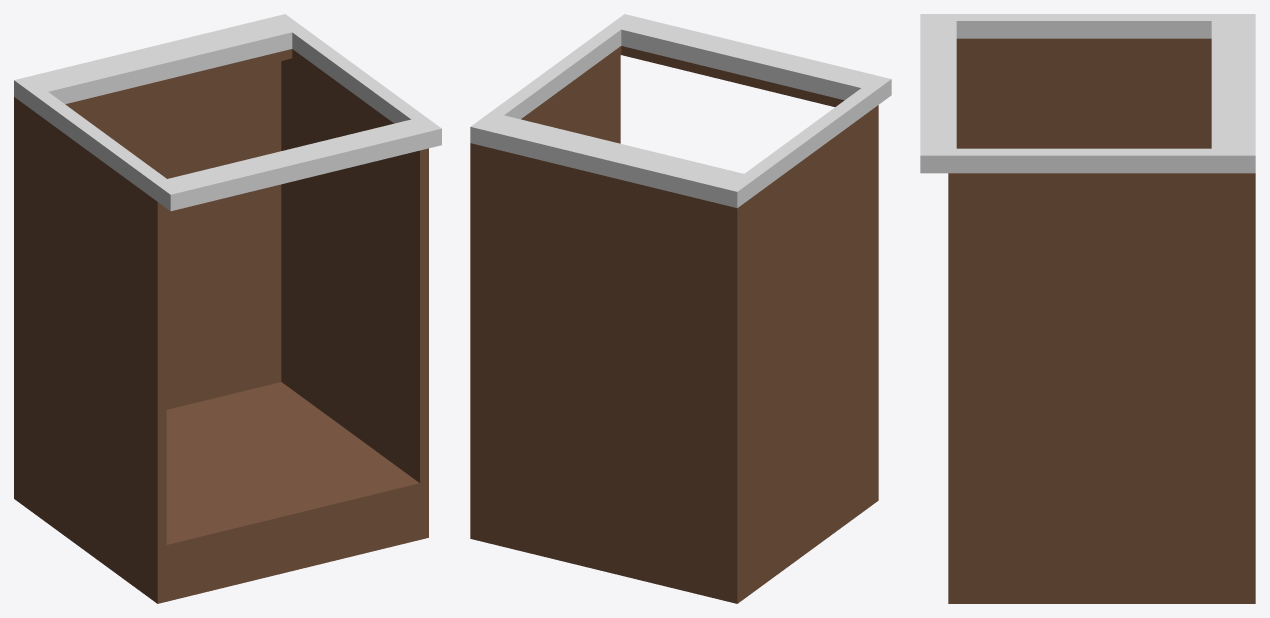
File: Kitchen1_C2_05.fbx
The picture shows the model from 3 angles, left to right: view 1: azimuth 30°, elevation 25°; view 2: azimuth 150°, elevation 25°; view 3: azimuth 270°, elevation 25°; orthographic projection. The views are drawn at different scales.
Parts seen in each view (by area): view 1: Kitchen1_C2_05; view 2: Kitchen1_C2_05; view 3: Kitchen1_C2_05.
Boxes of the visible parts, x1,y1,x2,y2 form: Kitchen1_C2_05: [14, 14, 441, 603]; Kitchen1_C2_05: [470, 14, 891, 603]; Kitchen1_C2_05: [920, 14, 1255, 603].
Size of the model in its own units: 60 by 88.5 by 60.
